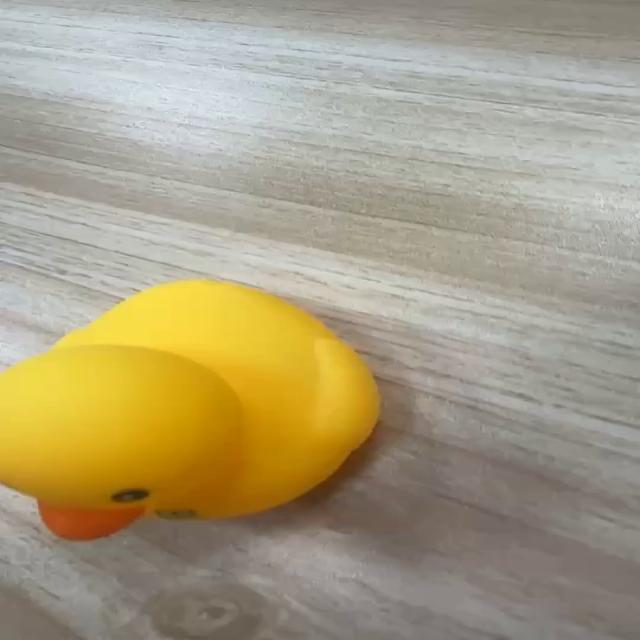yellow_duck: (0, 277, 382, 541)
